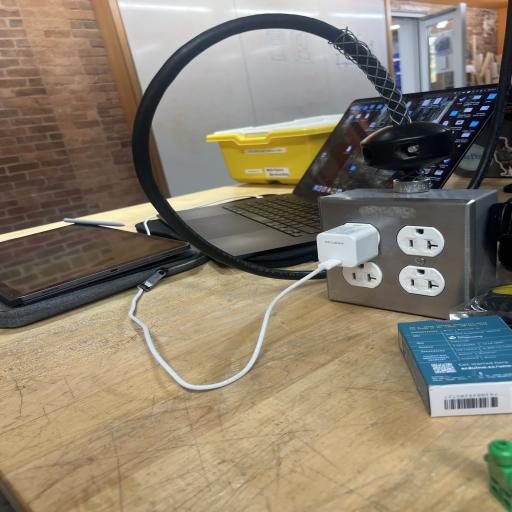green-lego-minifigure-detector: (484, 440, 512, 512)
